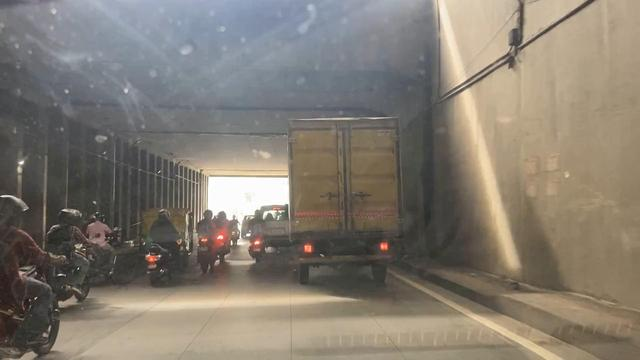HMV: (286, 118, 402, 283)
LMV: (149, 207, 184, 280), (198, 210, 221, 274), (248, 210, 270, 266)
